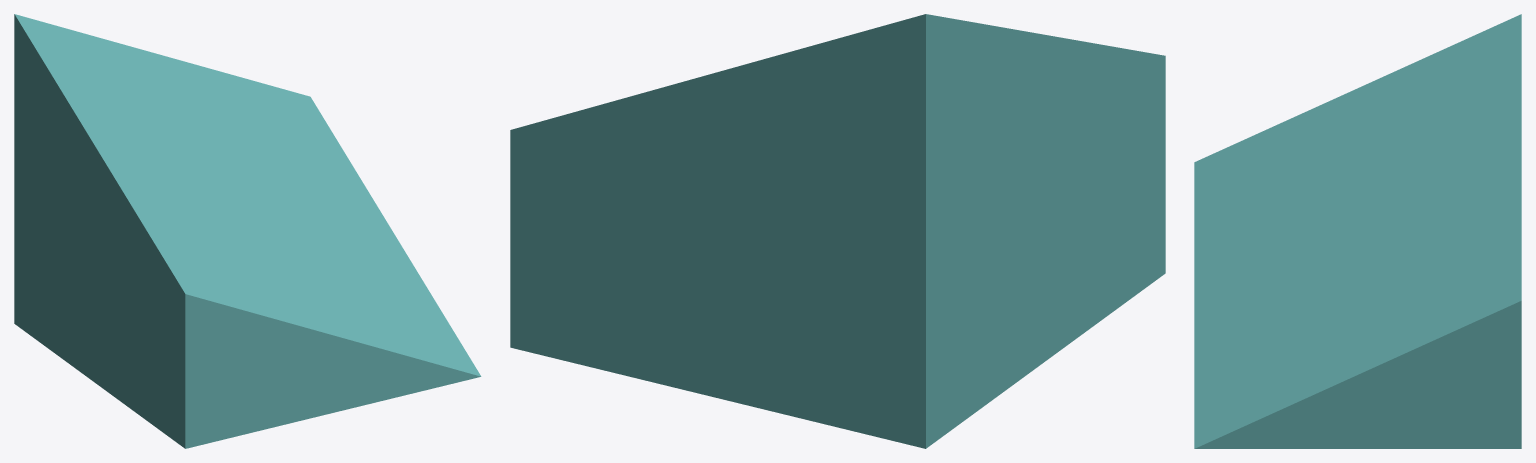
The model's file is OneWay_OuterCorner.glb.
The picture shows the model from 3 angles, left to right: view 1: azimuth 30°, elevation 25°; view 2: azimuth 150°, elevation 25°; view 3: azimuth 270°, elevation 25°; orthographic projection. The views are drawn at different scales.
Visible parts, largest first — view 1: OneWay_OuterCorner_body; view 2: OneWay_OuterCorner_body; view 3: OneWay_OuterCorner_body.
Boxes of the visible parts, left/top/right/bottom form: OneWay_OuterCorner_body: left=14, top=14, right=481, bottom=448; OneWay_OuterCorner_body: left=510, top=14, right=1165, bottom=448; OneWay_OuterCorner_body: left=1194, top=14, right=1521, bottom=448.
Bounding box in the file's own units: 1 × 1 × 1.
